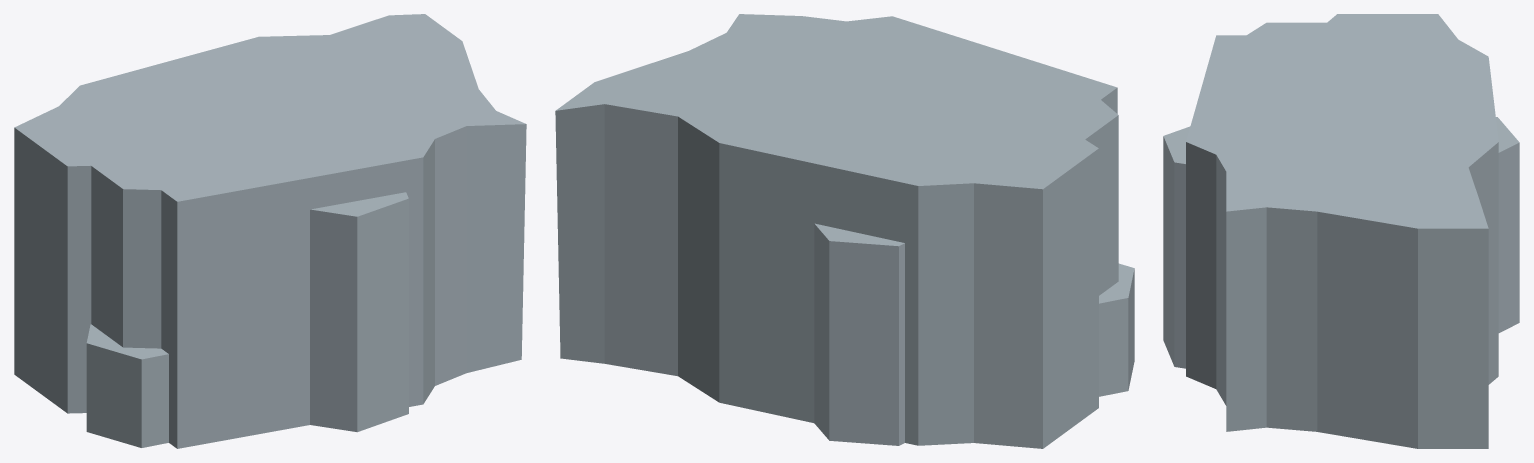
The model's file is Mountain_03.fbx.
The picture shows the model from 3 angles, left to right: view 1: azimuth 30°, elevation 25°; view 2: azimuth 150°, elevation 25°; view 3: azimuth 270°, elevation 25°; orthographic projection. The views are drawn at different scales.
Parts seen in each view (by area): view 1: NurbsPath; view 2: NurbsPath; view 3: NurbsPath.
Boxes of the visible parts, <box> form: NurbsPath: <box>14,14,526,448</box>; NurbsPath: <box>555,14,1134,448</box>; NurbsPath: <box>1163,14,1519,448</box>.
Size of the model in its own units: 7.3 by 3.9 by 5.37.
